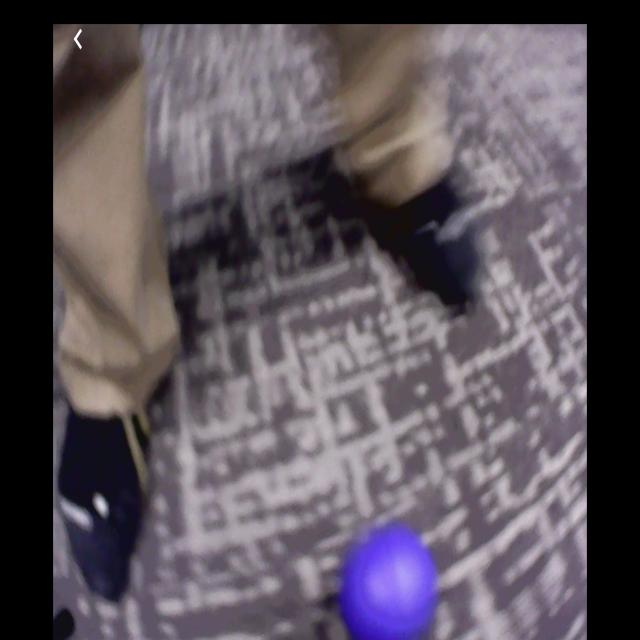ball: (342, 523, 437, 640)
